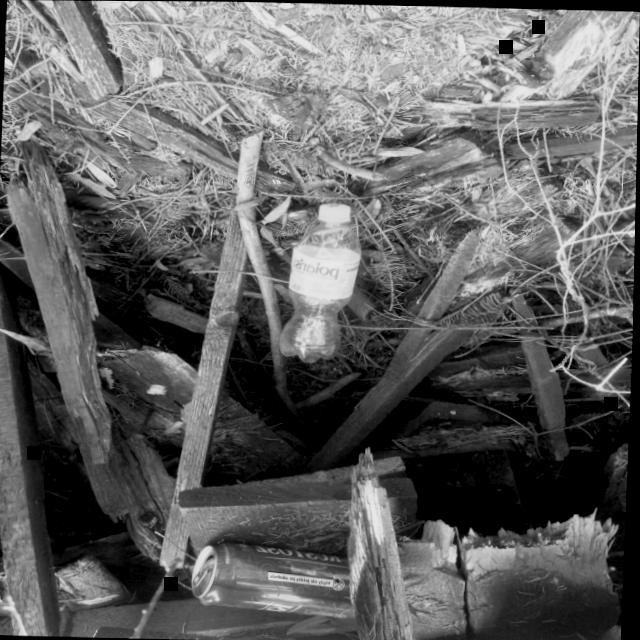Clear plastic bottle: (280, 201, 361, 361)
Drink can: (193, 541, 357, 617)
Plastic bottle cap: (318, 201, 351, 217)
Pop tab: (194, 562, 210, 585)
